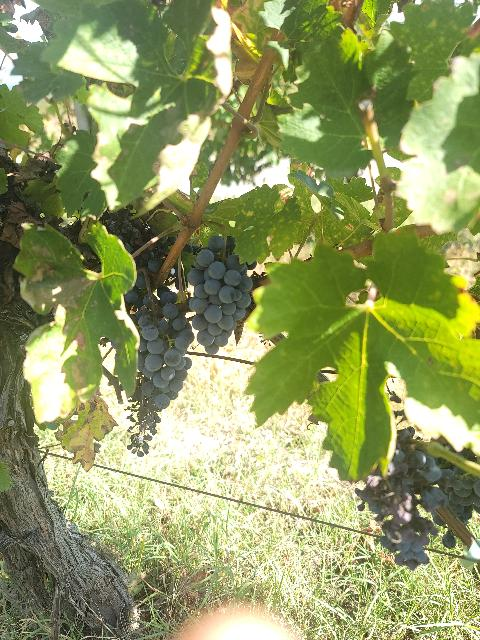grapes: (188, 235, 252, 355), (139, 290, 195, 409)
